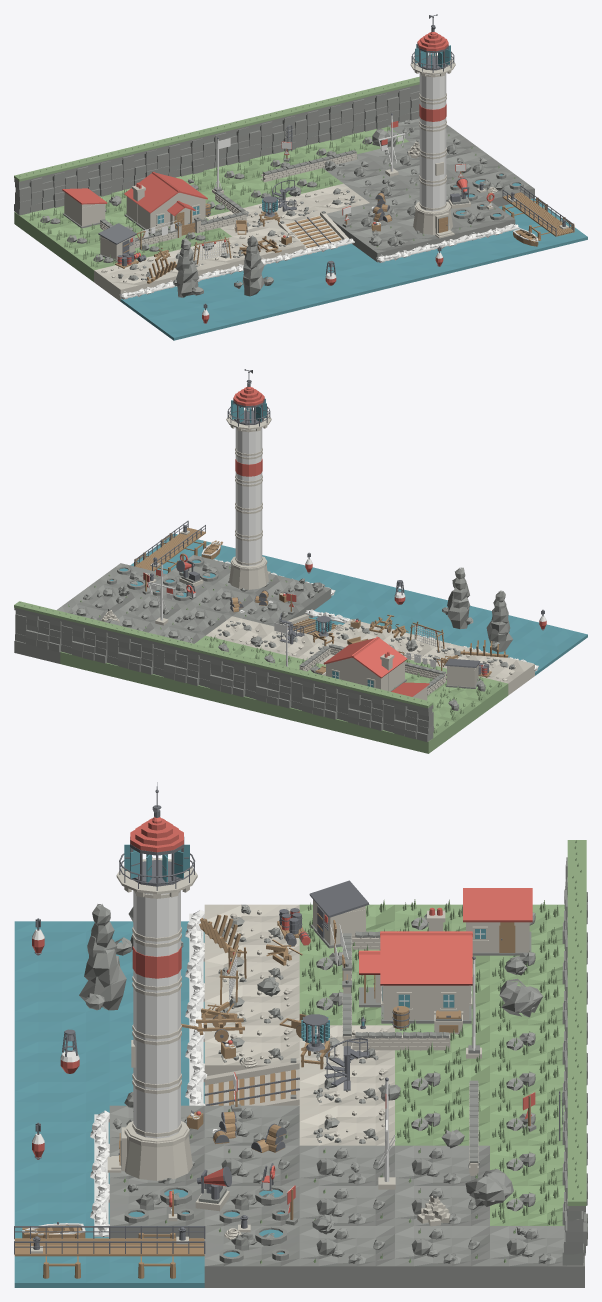
File: lighthouse_station.glb
The picture shows the model from 3 angles, top to bottom: view 1: azimuth 30°, elevation 25°; view 2: azimuth 150°, elevation 25°; view 3: azimuth 270°, elevation 25°; orthographic projection. The views are drawn at different scales.
Visible parts, largest first — view 1: 054-cliff-face-module/0, 080-keepers-cottage/2, 080-keepers-cottage/1, 061-cliff-face-module/0, 060-cliff-face-module/0, 041-rocky-shelf-module/0, 057-cliff-face-module/0, 059-cliff-face-module/0, 058-cliff-face-module/0, 027-shingle-beach-module/0, 056-cliff-face-module/0, 045-sea-water-plane-module/0 (+63 smaller); view 2: 054-cliff-face-module/0, 057-cliff-face-module/0, 056-cliff-face-module/0, 061-cliff-face-module/0, 055-cliff-face-module/0, 059-cliff-face-module/0, 060-cliff-face-module/0, 058-cliff-face-module/0, 062-cliff-face-module/0, 080-keepers-cottage/1, 080-keepers-cottage/2, 045-sea-water-plane-module/0 (+50 smaller); view 3: 017-rocky-shelf-module/0, 026-rocky-shelf-module/0, 080-keepers-cottage/2, 035-tide-pool-shelf-module/0, 008-rocky-shelf-module/0, 043-tide-pool-shelf-module/0, 049-sea-water-plane-module/0, 047-sea-water-plane-module/0, 025-rocky-shelf-module/0, 024-rocky-shelf-module/0, 048-sea-water-plane-module/0, 023-shingle-beach-module/0 (+85 smaller).
Boxes of the visible parts, box(x1,y1,x2,y2) form: 054-cliff-face-module/0: box(14, 171, 65, 215); 080-keepers-cottage/2: box(124, 171, 207, 216); 080-keepers-cottage/1: box(126, 185, 205, 232); 061-cliff-face-module/0: box(341, 92, 388, 136); 060-cliff-face-module/0: box(295, 103, 342, 147); 041-rocky-shelf-module/0: box(350, 222, 423, 262); 057-cliff-face-module/0: box(157, 137, 204, 177); 059-cliff-face-module/0: box(249, 114, 296, 158); 058-cliff-face-module/0: box(203, 126, 250, 170); 027-shingle-beach-module/0: box(94, 260, 166, 301); 056-cliff-face-module/0: box(111, 148, 157, 192); 045-sea-water-plane-module/0: box(147, 307, 219, 340); 054-cliff-face-module/0: box(382, 697, 433, 741); 057-cliff-face-module/0: box(244, 663, 291, 708); 056-cliff-face-module/0: box(290, 675, 337, 719); 061-cliff-face-module/0: box(60, 619, 107, 663); 055-cliff-face-module/0: box(336, 686, 383, 730); 059-cliff-face-module/0: box(152, 641, 199, 685); 060-cliff-face-module/0: box(106, 630, 153, 674); 058-cliff-face-module/0: box(198, 652, 245, 696); 062-cliff-face-module/0: box(14, 607, 61, 652); 080-keepers-cottage/1: box(326, 654, 404, 691); 080-keepers-cottage/2: box(323, 636, 407, 678); 045-sea-water-plane-module/0: box(516, 624, 587, 656); 017-rocky-shelf-module/0: box(395, 1226, 489, 1287); 026-rocky-shelf-module/0: box(299, 1226, 394, 1287); 080-keepers-cottage/2: box(358, 907, 472, 985); 035-tide-pool-shelf-module/0: box(204, 1226, 299, 1287); 008-rocky-shelf-module/0: box(490, 1226, 584, 1287); 043-tide-pool-shelf-module/0: box(109, 1186, 204, 1238); 049-sea-water-plane-module/0: box(14, 1082, 109, 1121); 047-sea-water-plane-module/0: box(14, 1001, 109, 1041); 025-rocky-shelf-module/0: box(299, 1186, 394, 1225); 024-rocky-shelf-module/0: box(299, 1145, 394, 1185); 048-sea-water-plane-module/0: box(14, 1041, 109, 1081); 023-shingle-beach-module/0: box(299, 1105, 394, 1145).
Bounding box in the file's own units: 54.15 × 27.98 × 36.23.
